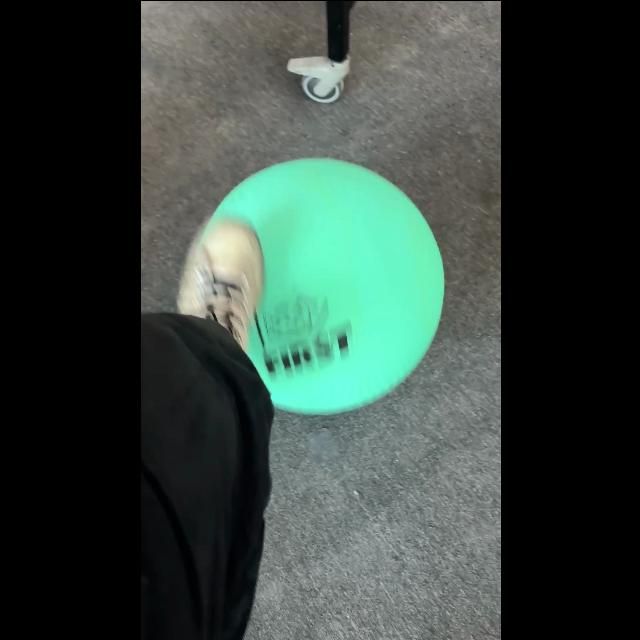ALGAE: (178, 155, 444, 415)
